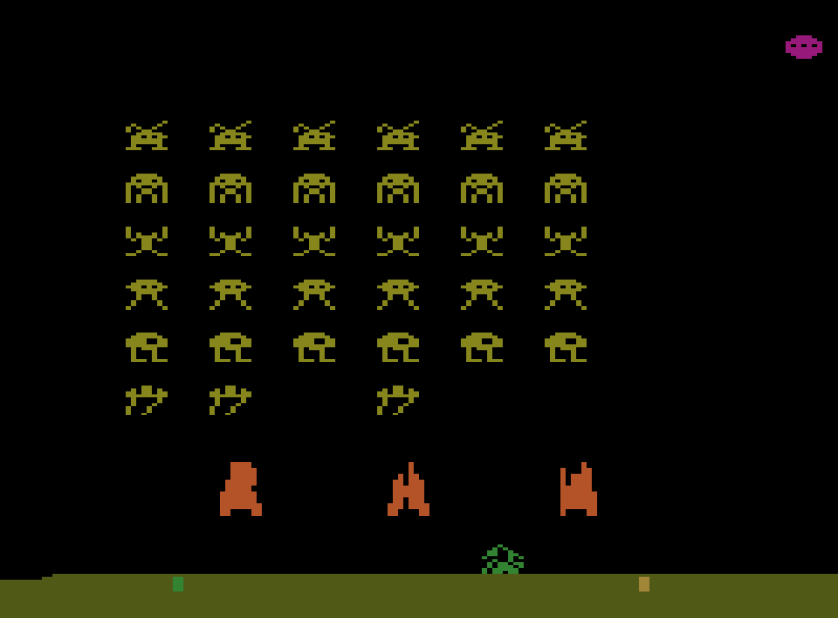bonus: (784, 31, 824, 61)
invader1: (375, 116, 422, 153), (207, 116, 254, 152), (291, 117, 338, 152), (542, 117, 589, 152), (460, 118, 506, 152), (124, 119, 170, 152)
invader2: (458, 170, 505, 207), (208, 170, 254, 207), (292, 171, 339, 206), (125, 170, 170, 206), (375, 170, 420, 206), (543, 170, 588, 205)
invader3: (125, 224, 170, 260), (458, 224, 505, 258), (290, 225, 339, 257), (375, 225, 422, 258), (543, 225, 590, 258), (208, 224, 254, 257)
invader4: (459, 276, 507, 313), (209, 275, 255, 313), (541, 275, 588, 312), (374, 275, 421, 311), (125, 276, 171, 312), (290, 278, 338, 312)
invader5: (124, 329, 170, 365), (293, 329, 339, 365), (375, 330, 421, 365), (459, 329, 505, 364), (208, 329, 253, 364), (543, 331, 588, 365)
invader6: (375, 381, 421, 418), (124, 383, 170, 418), (207, 384, 253, 417)
player: (479, 543, 526, 575)
